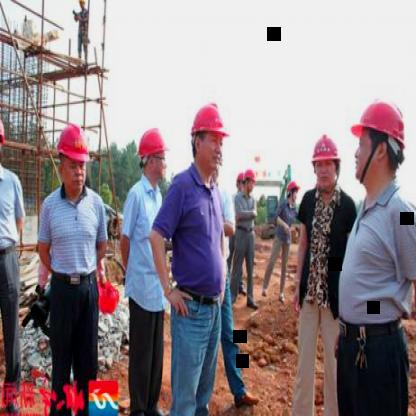helmet: (351, 98, 407, 192), (187, 98, 231, 176), (53, 119, 92, 196), (310, 130, 345, 194), (138, 124, 172, 184), (242, 168, 260, 198), (0, 108, 7, 172), (286, 178, 300, 204), (235, 172, 246, 194)
